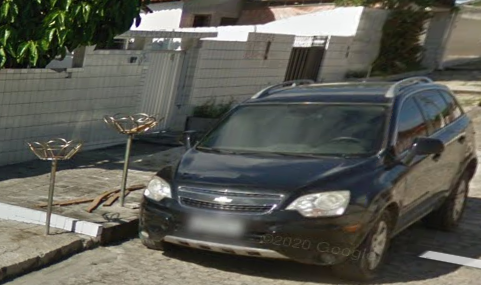car: (137, 64, 477, 283)
